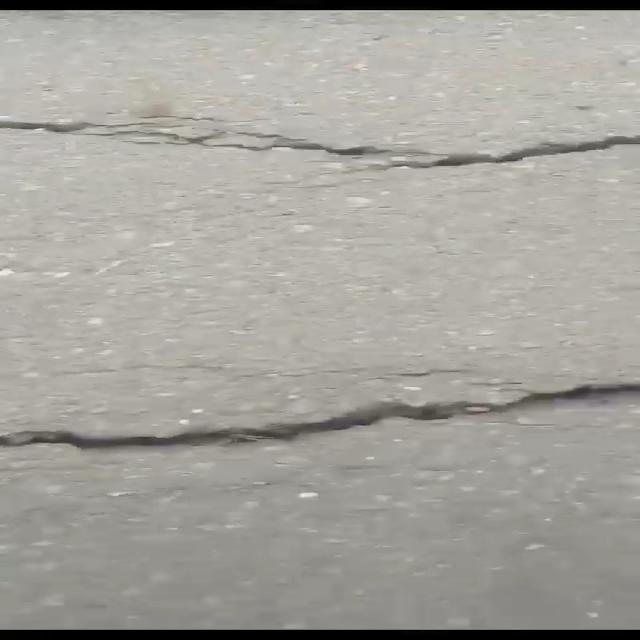Melintang: (0, 374, 640, 461), (0, 106, 640, 175)
